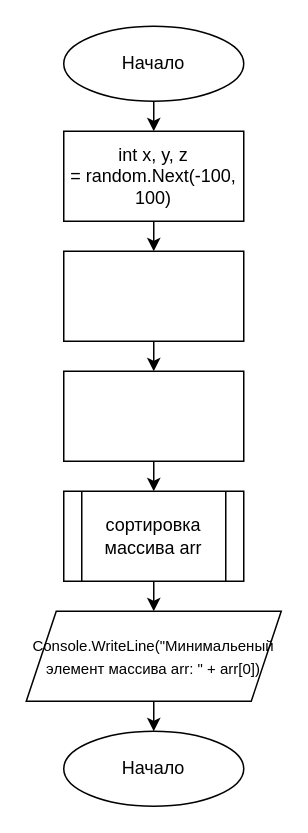
This 308x833 diagram has some shape labels left out. The centre of each missing label's shape, as x and y in pixels:
int[] arr = new int[] { x, y, z }: point 153,295
Вывод исходного массива на экран: point 153,415
